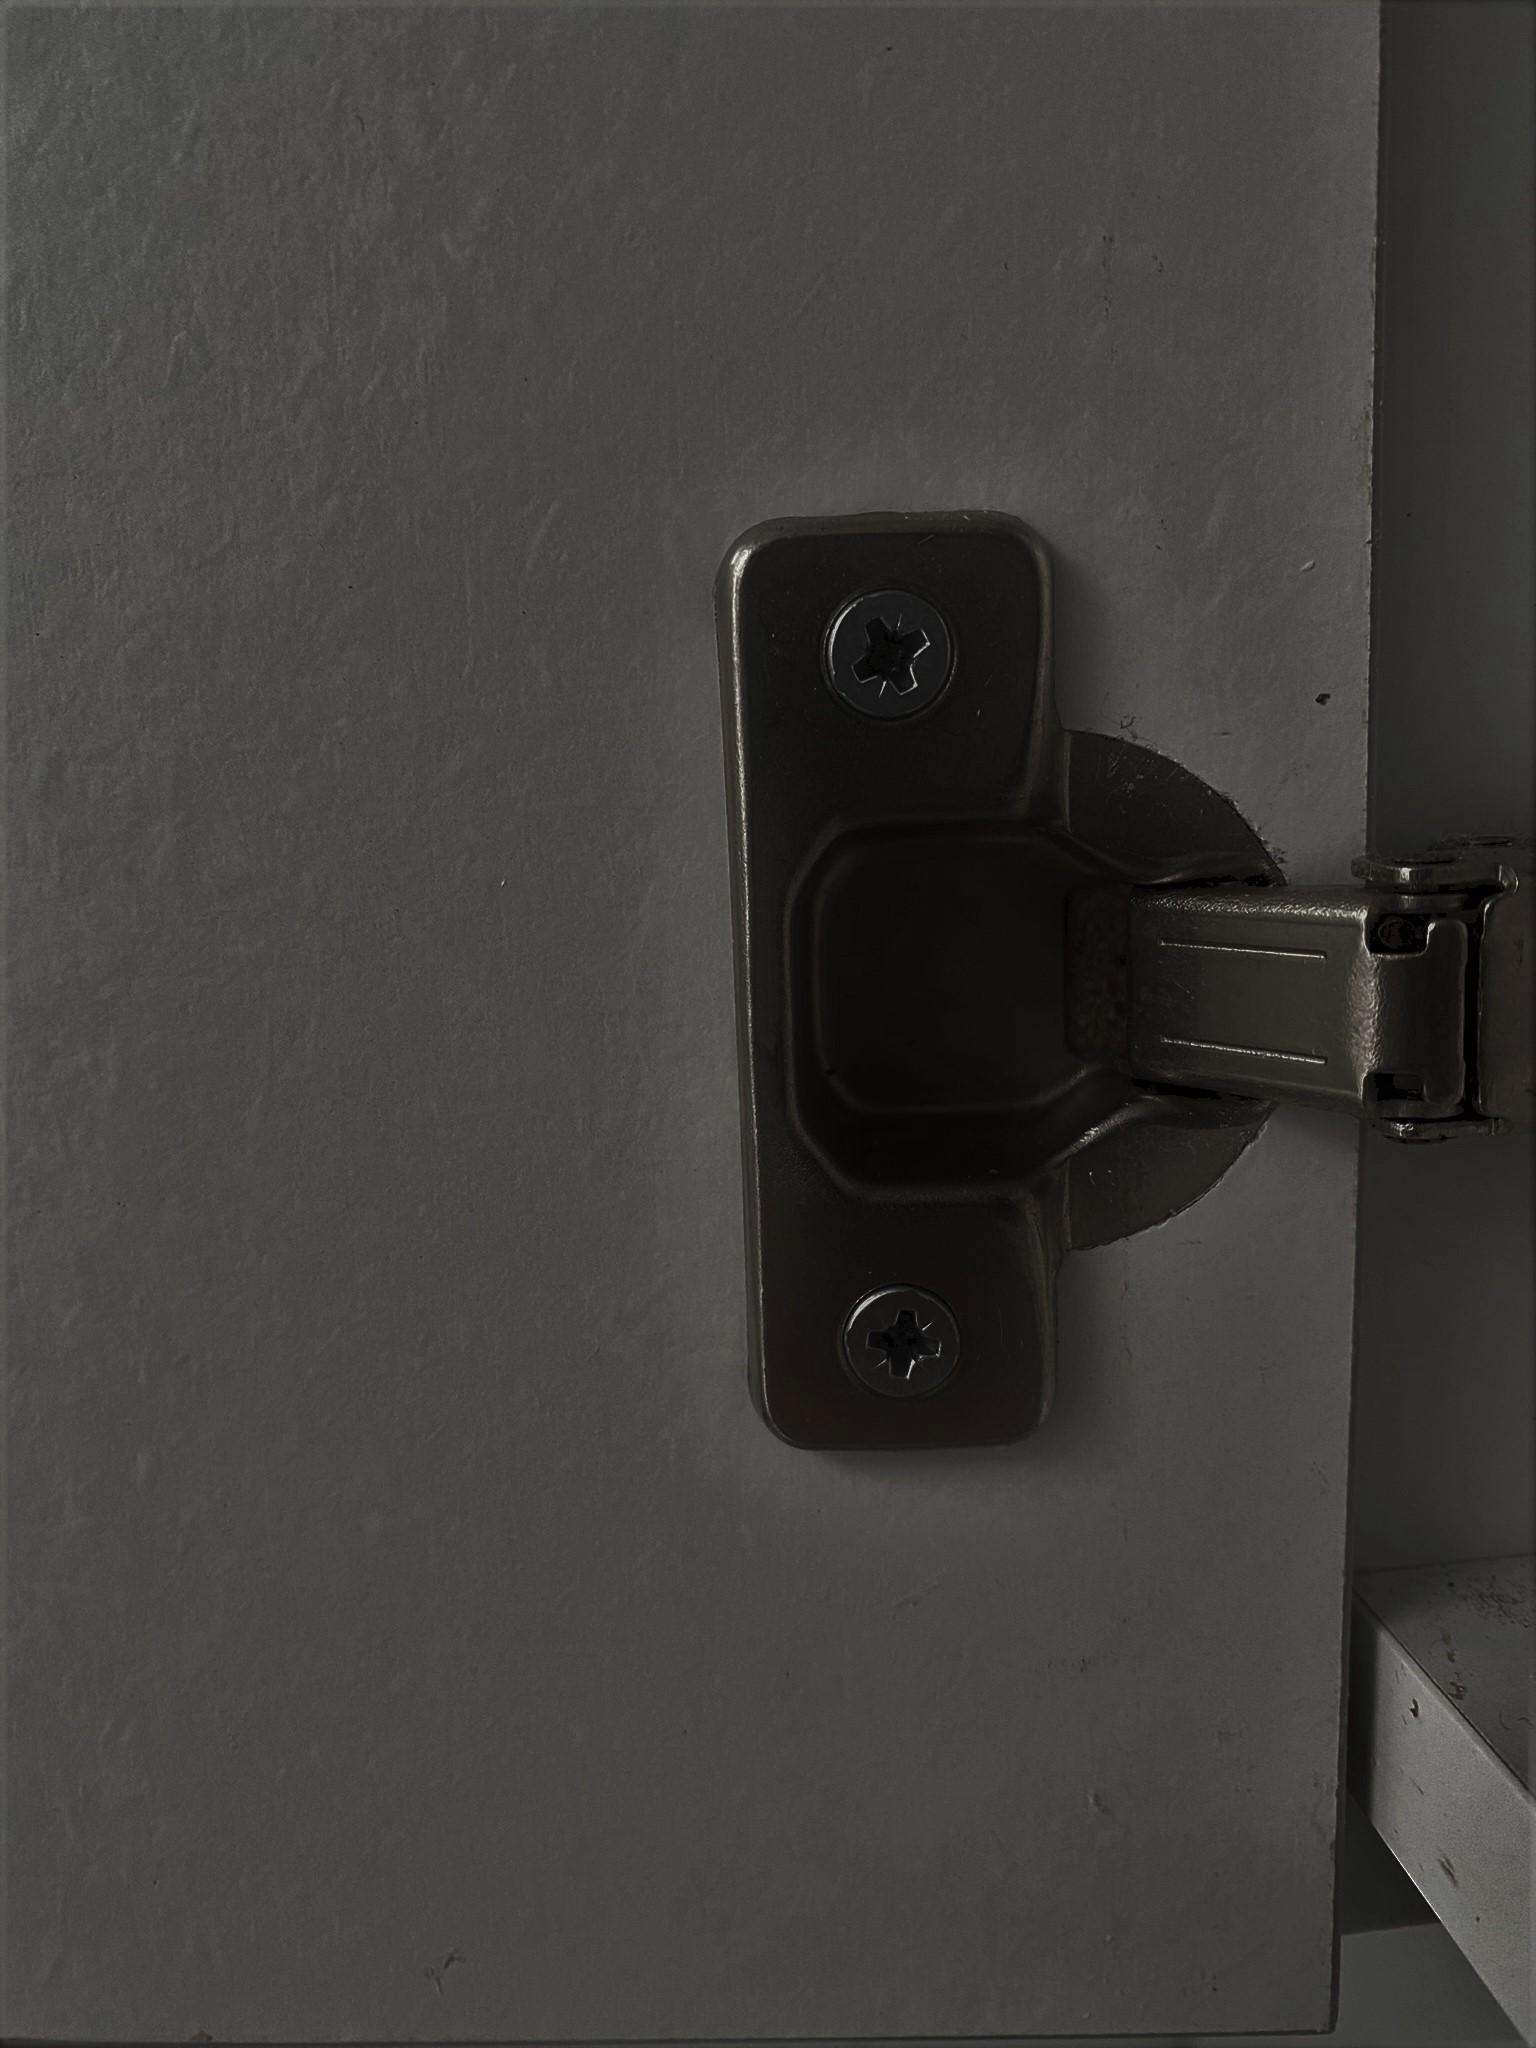PH: (821, 585, 963, 726), (836, 1282, 968, 1406)
